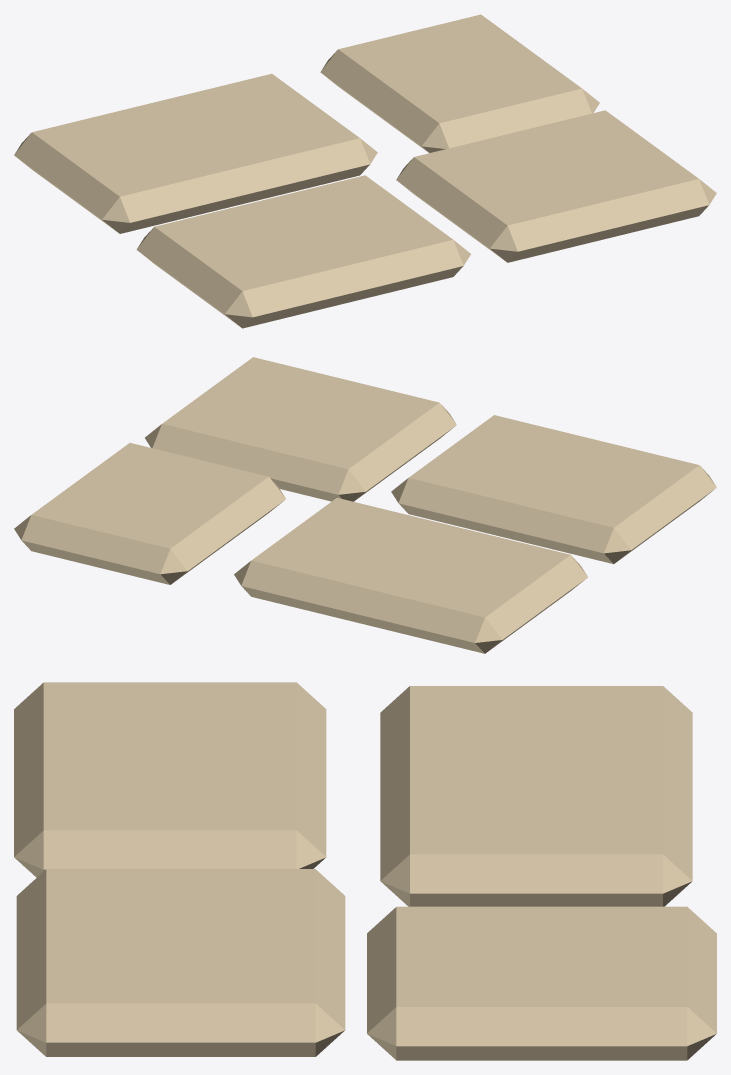
Rendered from path-tile.glb.
The picture shows the model from 3 angles, top to bottom: view 1: azimuth 30°, elevation 25°; view 2: azimuth 150°, elevation 25°; view 3: azimuth 270°, elevation 25°; orthographic projection. The views are drawn at different scales.
Parts seen in each view (by area): view 1: paving-stone.002, paving-stone, paving-stone.001, paving-stone.003; view 2: paving-stone.002, paving-stone, paving-stone.001, paving-stone.003; view 3: paving-stone.002, paving-stone.001, paving-stone, paving-stone.003.
Boxes of the visible parts, bbox=[...] form: paving-stone.002: bbox=[14, 73, 377, 233]; paving-stone: bbox=[136, 175, 470, 328]; paving-stone.001: bbox=[396, 110, 716, 262]; paving-stone.003: bbox=[320, 14, 599, 153]; paving-stone.002: bbox=[234, 498, 587, 653]; paving-stone: bbox=[391, 415, 716, 564]; paving-stone.001: bbox=[145, 357, 456, 501]; paving-stone.003: bbox=[14, 443, 285, 584]; paving-stone.002: bbox=[380, 686, 692, 906]; paving-stone.001: bbox=[16, 869, 345, 1056]; paving-stone: bbox=[14, 682, 326, 877]; paving-stone.003: bbox=[367, 906, 716, 1060].
Bounding box in the file's own units: 1.53 × 0.11 × 1.3.
